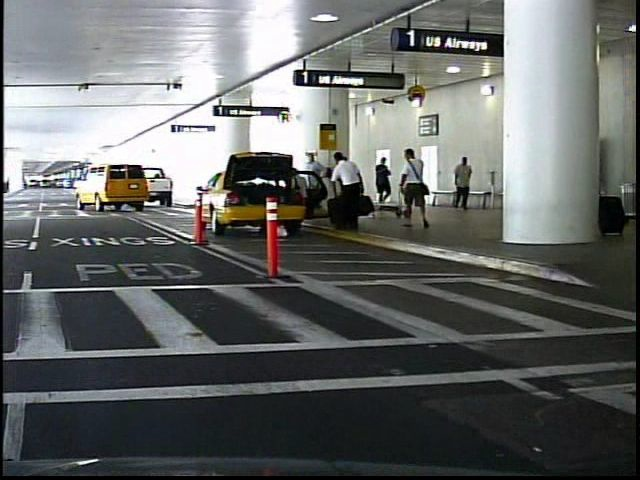person: (395, 146, 431, 231), (447, 152, 470, 214)
